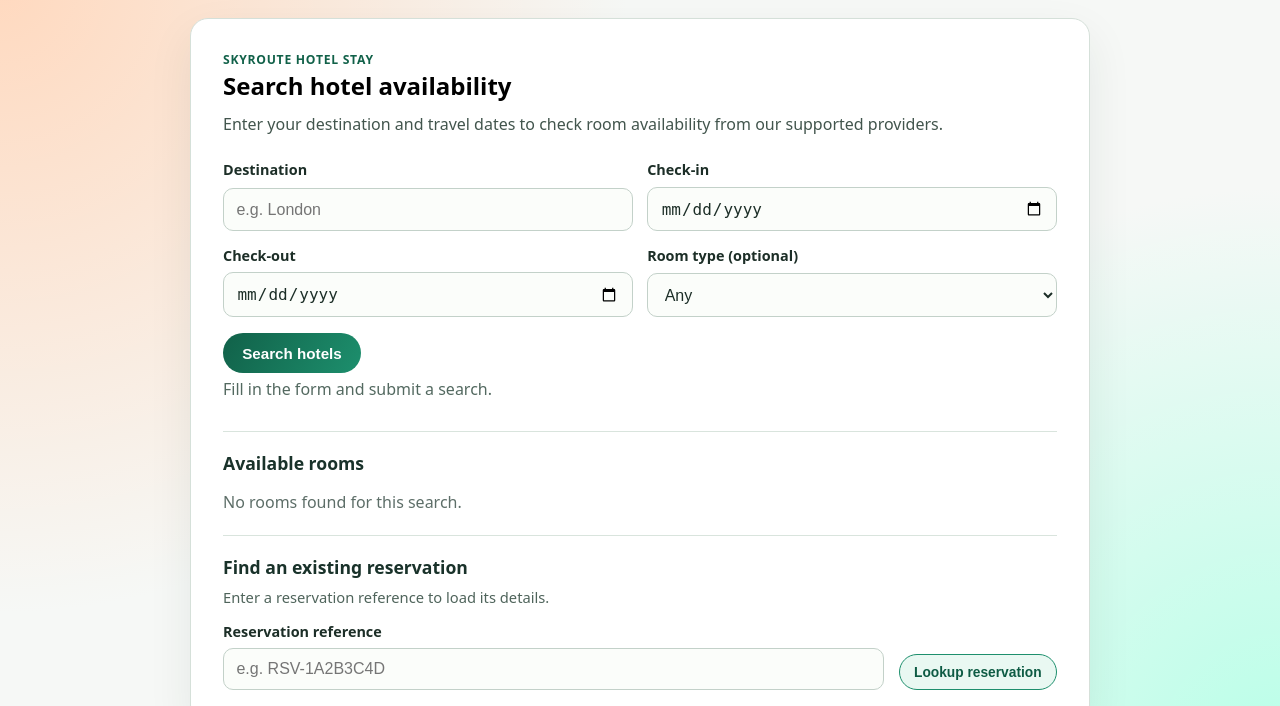
it: App — lookup success state › shows reservation details after a successful lookup
The image size is (1280, 706).
In the field with placeholder "e.g. RSV-1A2B3C4D": (554, 669) [223,648,884,690], type "RSV-LOOKUP99"
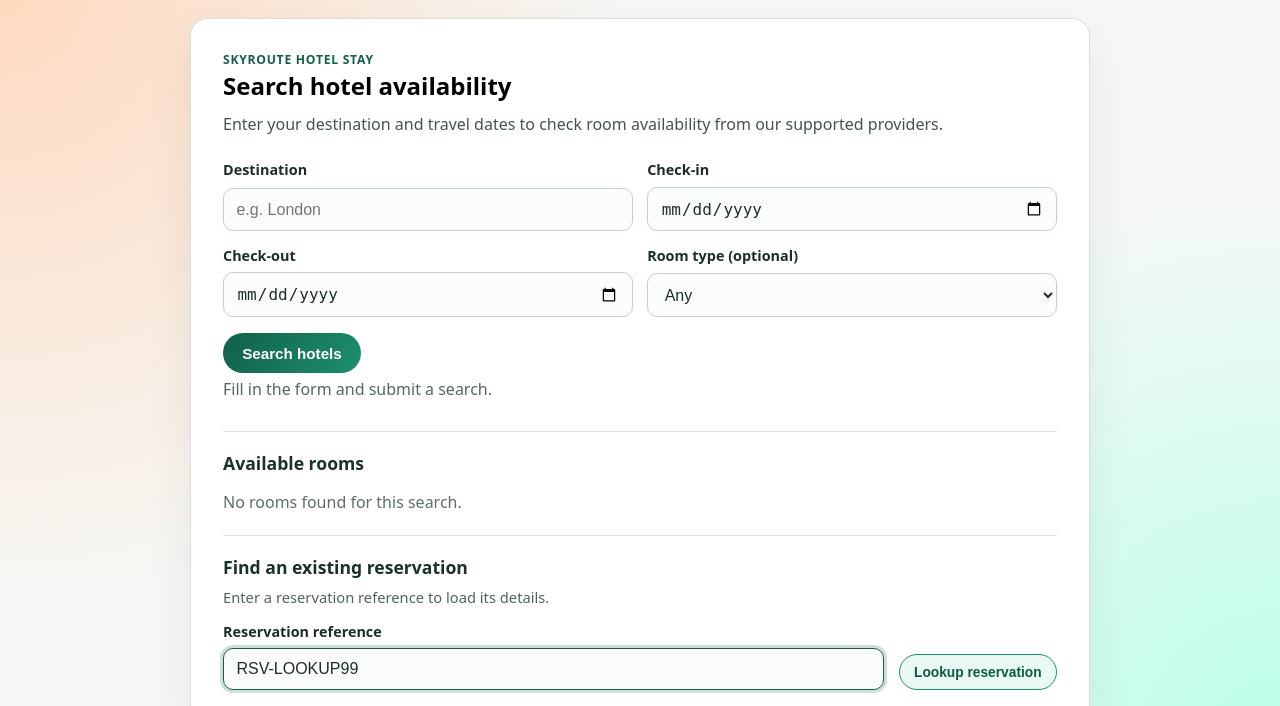
Click the button "Lookup reservation": (978, 672) [899,654,1057,690]
(page scrolled)
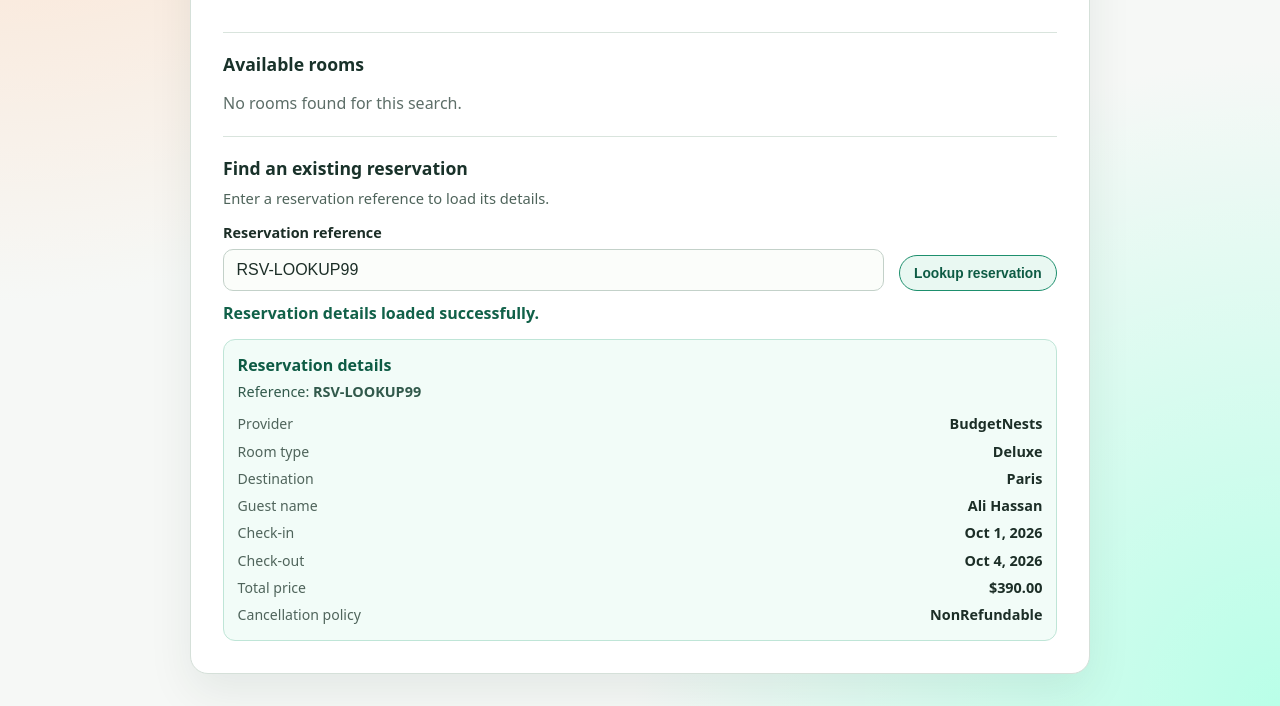
Result: the text "RSV-LOOKUP99" is shown at [313,382,421,401]
Result: the text "Ali Hassan" is shown at [968,496,1042,517]
Result: the heading "Reservation details" is shown at [238,354,391,376]
